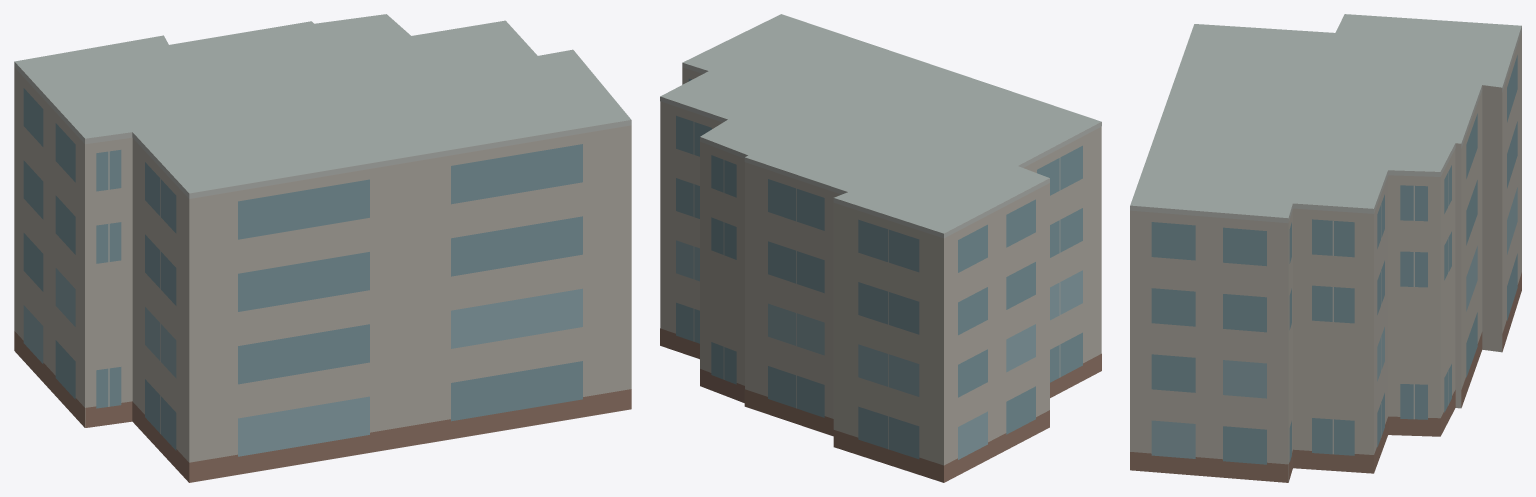
Rendered from survey-upis-32612824.glb.
3 views of the same model, side by side, from view 1: azimuth 30°, elevation 25°; view 2: azimuth 150°, elevation 25°; view 3: azimuth 270°, elevation 25° (orthographic). The views are drawn at different scales.
Visible parts, largest first — view 1: survey-upis-32612824.tmp; view 2: survey-upis-32612824.tmp; view 3: survey-upis-32612824.tmp.
Part boxes in pixels (x1,y1,x2,y2): survey-upis-32612824.tmp: (14,14,631,482); survey-upis-32612824.tmp: (660,14,1101,482); survey-upis-32612824.tmp: (1130,14,1521,482).
Size of the model in its own units: 21.18 by 12.8 by 17.18.
